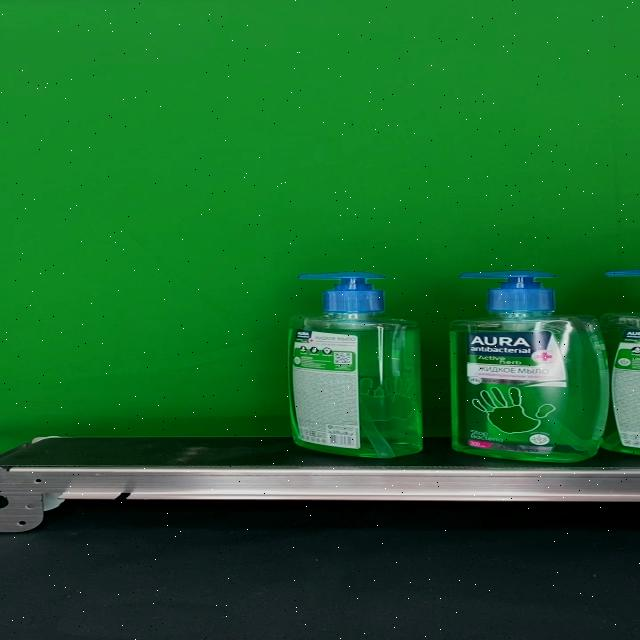Bottle: (449, 270, 610, 462), (286, 271, 423, 458)
Cap: (459, 270, 557, 312), (296, 270, 386, 312)
